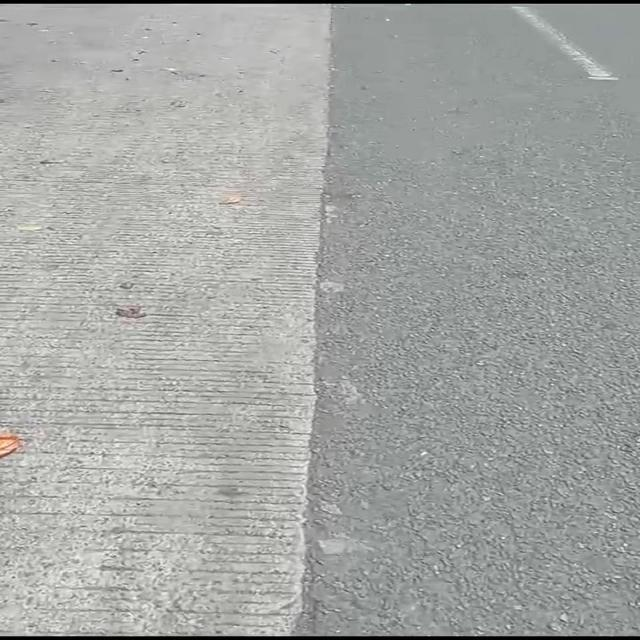Sambungan: (0, 0, 337, 640)
